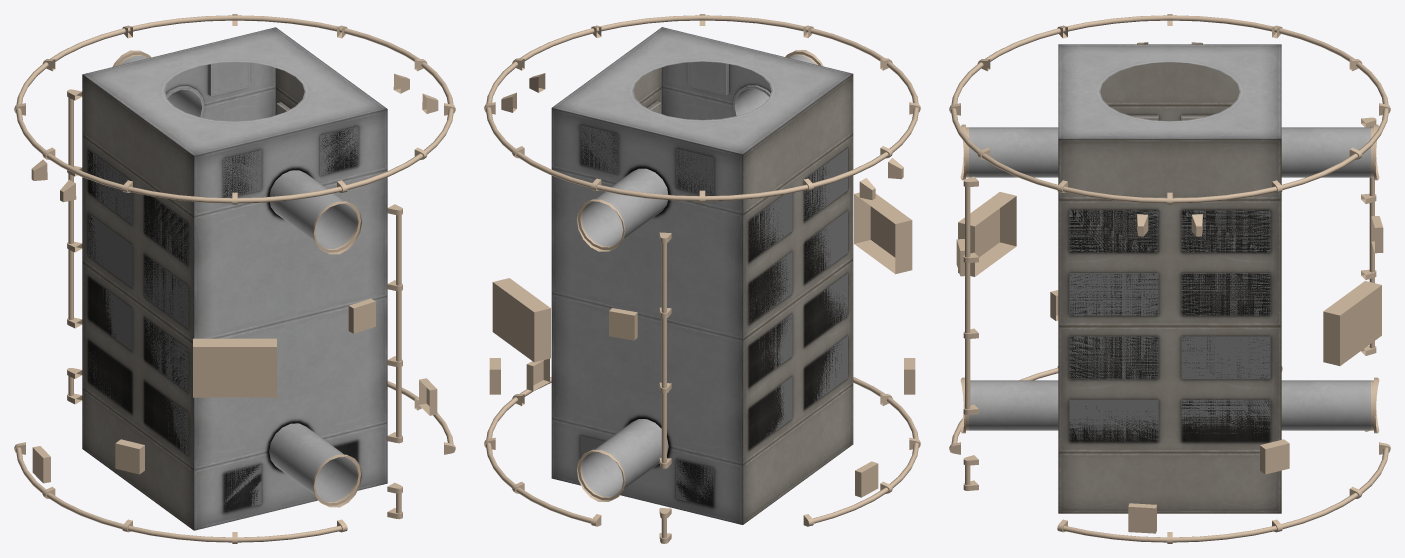
Rendered from lab interior.obj.
3 views of the same model, side by side, from view 1: azimuth 30°, elevation 25°; view 2: azimuth 150°, elevation 25°; view 3: azimuth 270°, elevation 25° (orthographic).
Parts seen in each view (by area): view 1: i1_i1_auv, i1_default; view 2: i1_i1_auv, i1_default; view 3: i1_i1_auv, i1_default.
Boxes of the visible parts, box(x1,y1,x2,y2) form: i1_i1_auv: box(82, 27, 387, 530); i1_default: box(14, 14, 455, 543); i1_i1_auv: box(551, 27, 853, 524); i1_default: box(484, 14, 920, 543); i1_i1_auv: box(969, 44, 1370, 513); i1_default: box(949, 14, 1390, 543).
Size of the model in its own units: 1.98 by 1.85 by 1.98.
Materials: 2 (1 with a texture image).
